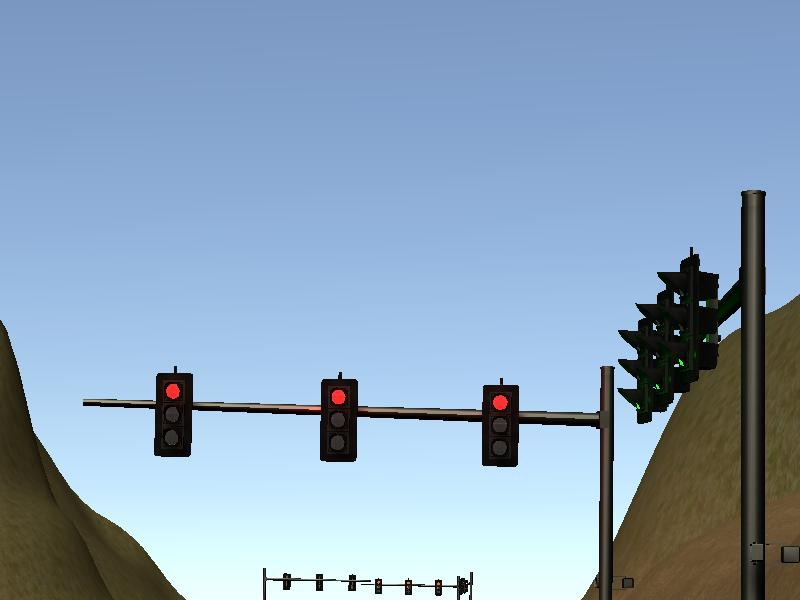Red: (479, 383, 521, 468), (317, 378, 359, 463), (151, 371, 193, 456)
